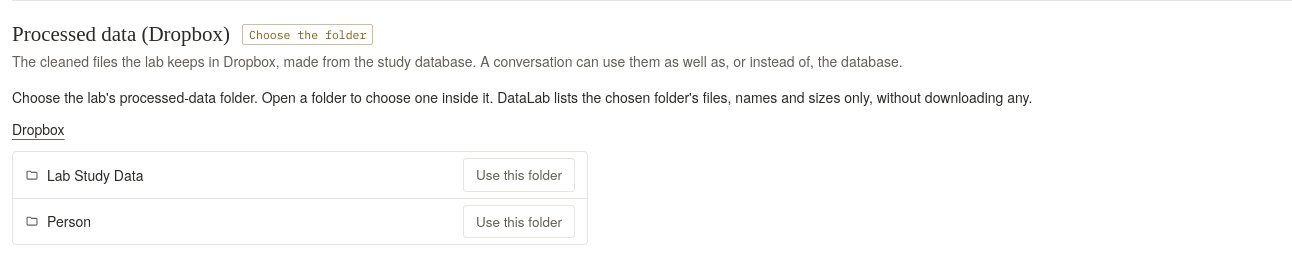
Test: goes back to the top from the folder path
This screenshot has width=1292, height=262.
Click the button with aria-label "Open Person".
click(69, 221)  # box left=47, top=211, right=455, bottom=231
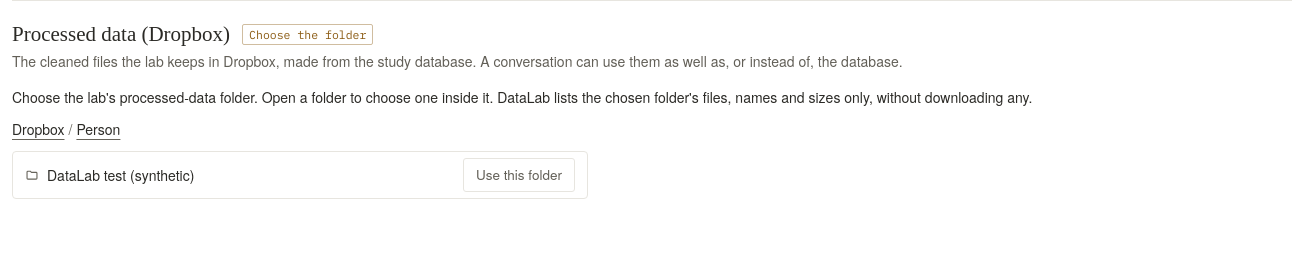
Expected: the button "DataLab test (synthetic)" is shown, left=47, top=165, right=455, bottom=185
Click the button "Dropbox".
click(38, 129)  # box left=12, top=119, right=64, bottom=139
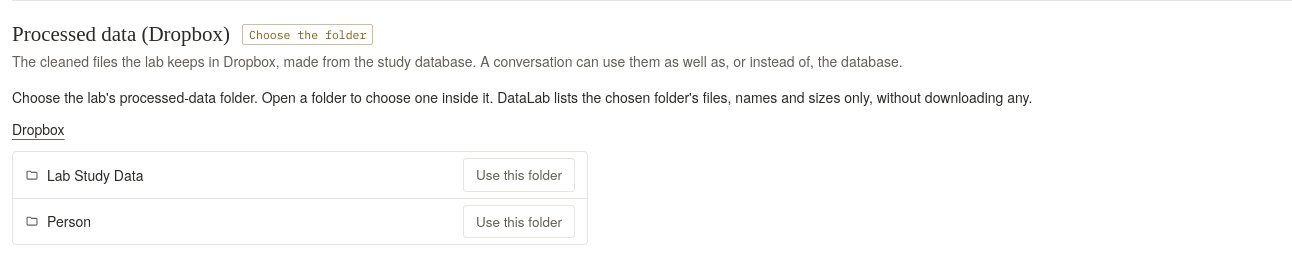
Expected: the button "Lab Study Data" is shown, left=47, top=165, right=455, bottom=185
